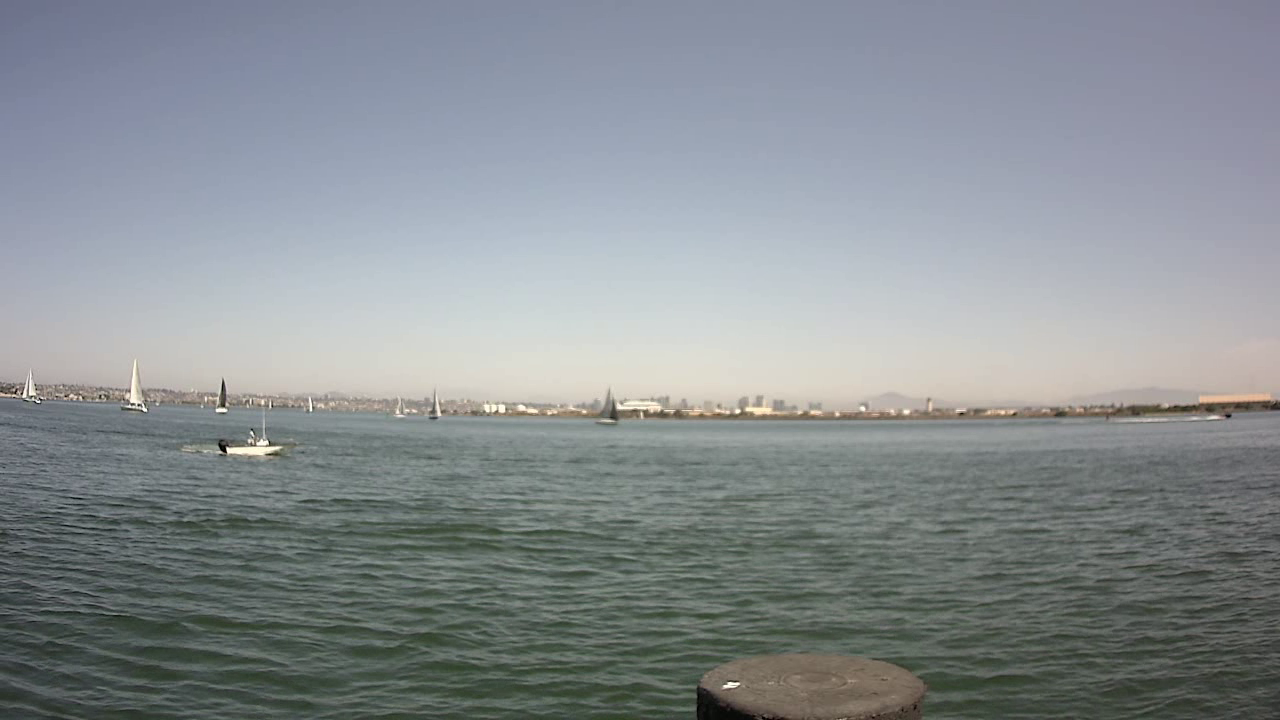target: (206, 419, 301, 463)
